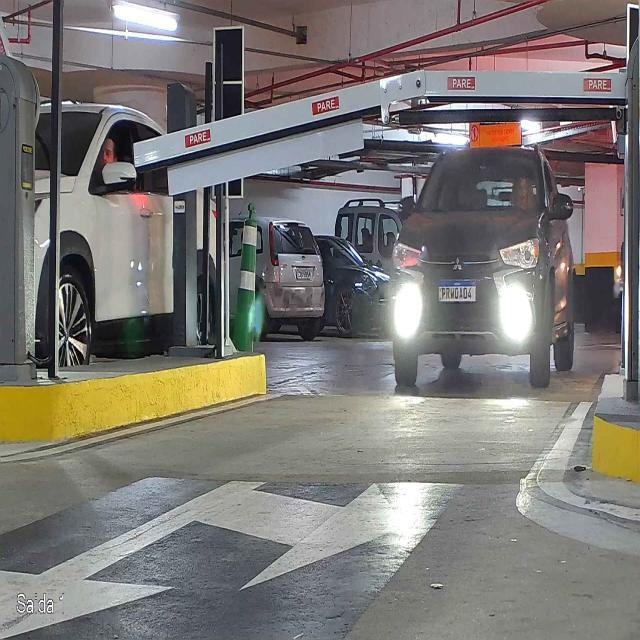mercosul_plate: (436, 278, 478, 304)
